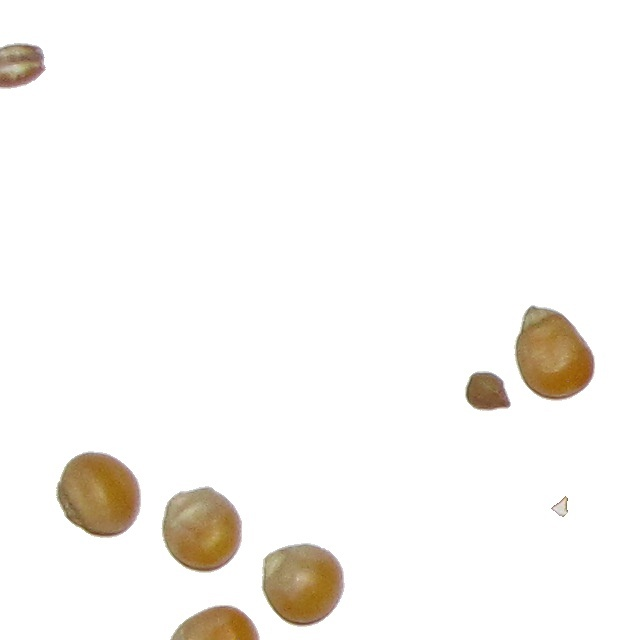mais: (513, 304, 596, 402), (55, 450, 142, 539), (260, 542, 346, 628), (160, 485, 243, 574), (161, 604, 262, 640)
other: (464, 370, 512, 412), (550, 495, 569, 518)
